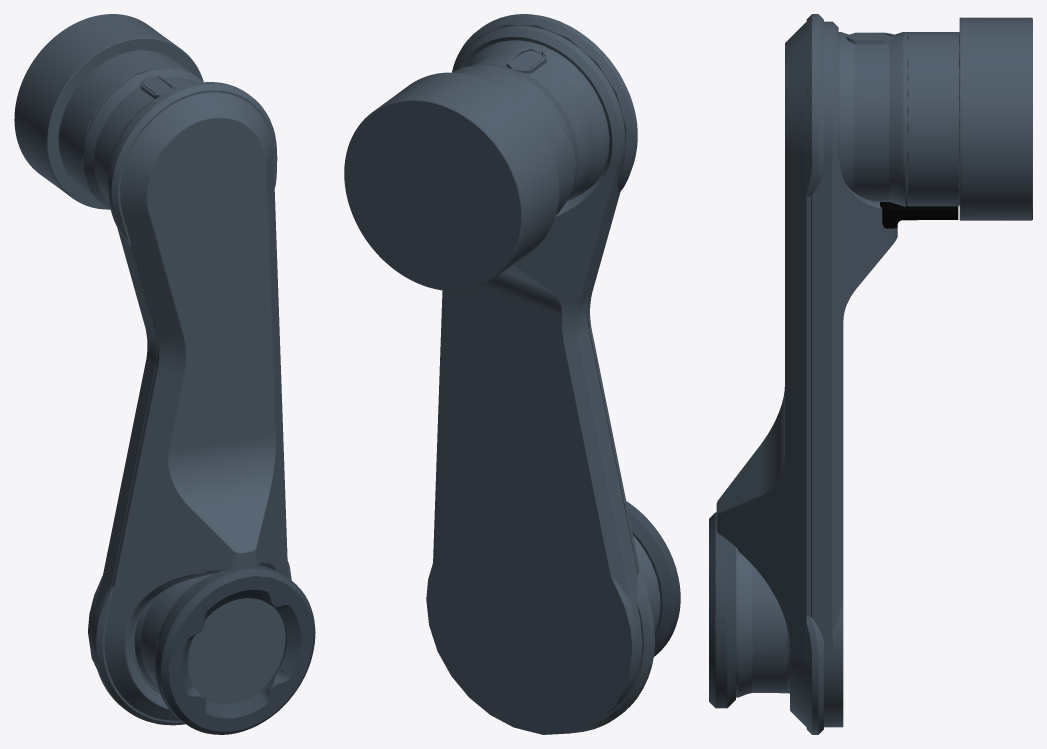
File: hr_hipy.dae
3 renders of one model, left to right at view 1: azimuth 30°, elevation 25°; view 2: azimuth 150°, elevation 25°; view 3: azimuth 270°, elevation 25°, orthographic. The views are drawn at different scales.
Visible parts, largest first — view 1: Mesh, 圆角2, 倒角4, 圆角25, 切除-拉伸51, 移动面1, 切除-拉伸49; view 2: 移动面1, 倒角4, 圆角25, Mesh, 圆角2, 切除-拉伸49; view 3: Mesh, 移动面1, 圆角25, 倒角4, 切除-拉伸49, 圆角2, 凸台-拉伸1.
Boxes of the visible parts, x1=… form: Mesh: x1=93, y1=82, x2=291, y2=725; 圆角2: x1=155, y1=565, x2=315, y2=734; 倒角4: x1=14, y1=14, x2=203, y2=209; 圆角25: x1=58, y1=50, x2=203, y2=208; 切除-拉伸51: x1=187, y1=598, x2=285, y2=703; 移动面1: x1=88, y1=85, x2=185, y2=668; 切除-拉伸49: x1=134, y1=573, x2=215, y2=689; 移动面1: x1=426, y1=25, x2=642, y2=734; 倒角4: x1=344, y1=72, x2=559, y2=291; 圆角25: x1=452, y1=40, x2=609, y2=214; Mesh: x1=452, y1=14, x2=654, y2=732; 圆角2: x1=626, y1=501, x2=680, y2=656; 切除-拉伸49: x1=633, y1=535, x2=660, y2=631; Mesh: x1=716, y1=14, x2=823, y2=734; 移动面1: x1=811, y1=21, x2=897, y2=727; 圆角25: x1=838, y1=32, x2=959, y2=206; 倒角4: x1=959, y1=17, x2=1032, y2=220; 切除-拉伸49: x1=736, y1=547, x2=789, y2=697; 圆角2: x1=709, y1=512, x2=735, y2=708; 凸台-拉伸1: x1=880, y1=202, x2=958, y2=228.
Bounding box in the file's own units: 115 × 149 × 356.
